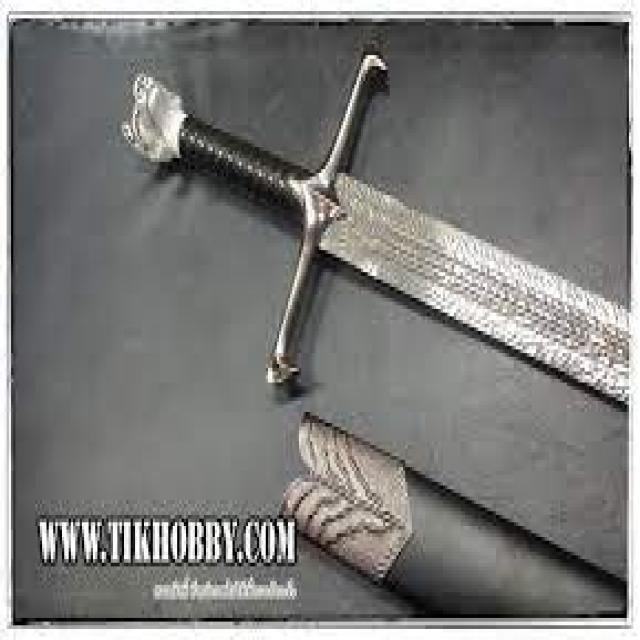long sword: (117, 52, 628, 422)
